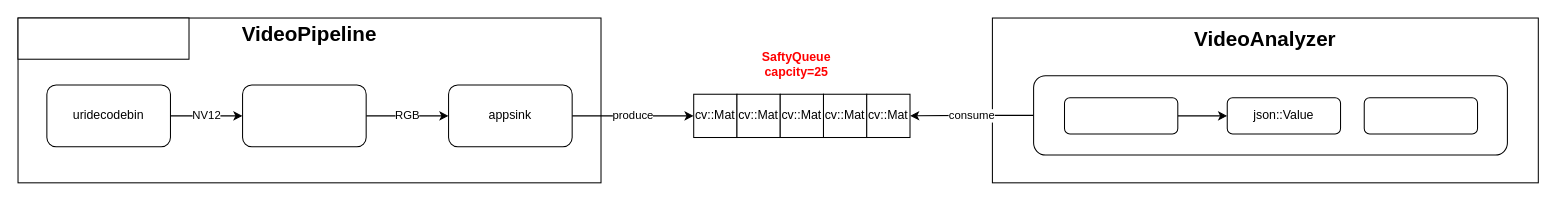
The diagram is 1556 pixels wide and 201 high, and some of its shapes have lost their labels. The shapes that lost their labels are listed below. From the top down, each one's centre as x and y in pixels, then its label:
At [103,38]: "VideoPipelineConfig".
At [304,115]: "qtivtansform".
At [1120,115]: "ObjectDetection".
At [1420,115]: "mosquitto".
